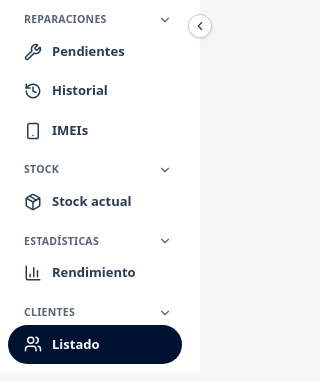
grupos plegables › la cabecera pliega su grupo sin navegar, lo recuerda y lo despliega
Click the button "Stock" at (95, 170), box x1=8 y1=158 x2=182 y2=182
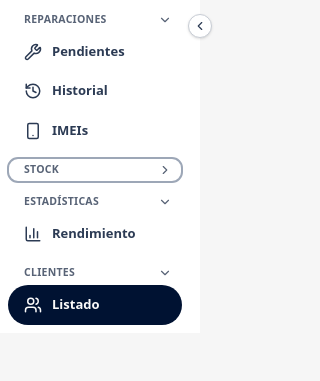
Expected: the link "Stock actual" is gone
Click the button "Stock" at (95, 170), box x1=8 y1=158 x2=182 y2=182
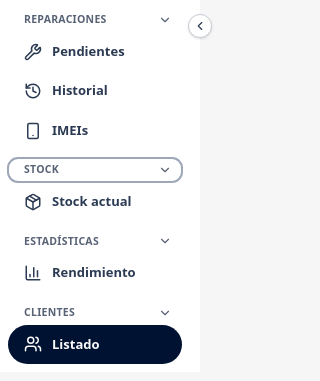
Expected: the link "Stock actual" is shown, x1=24 y1=192 x2=132 y2=211
